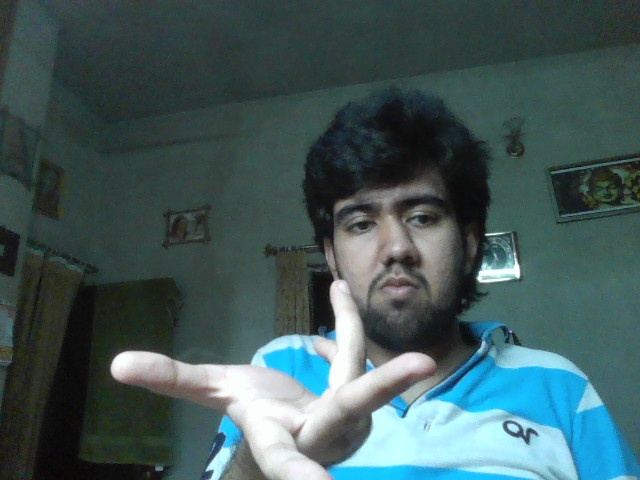What: (111, 279, 437, 480)
